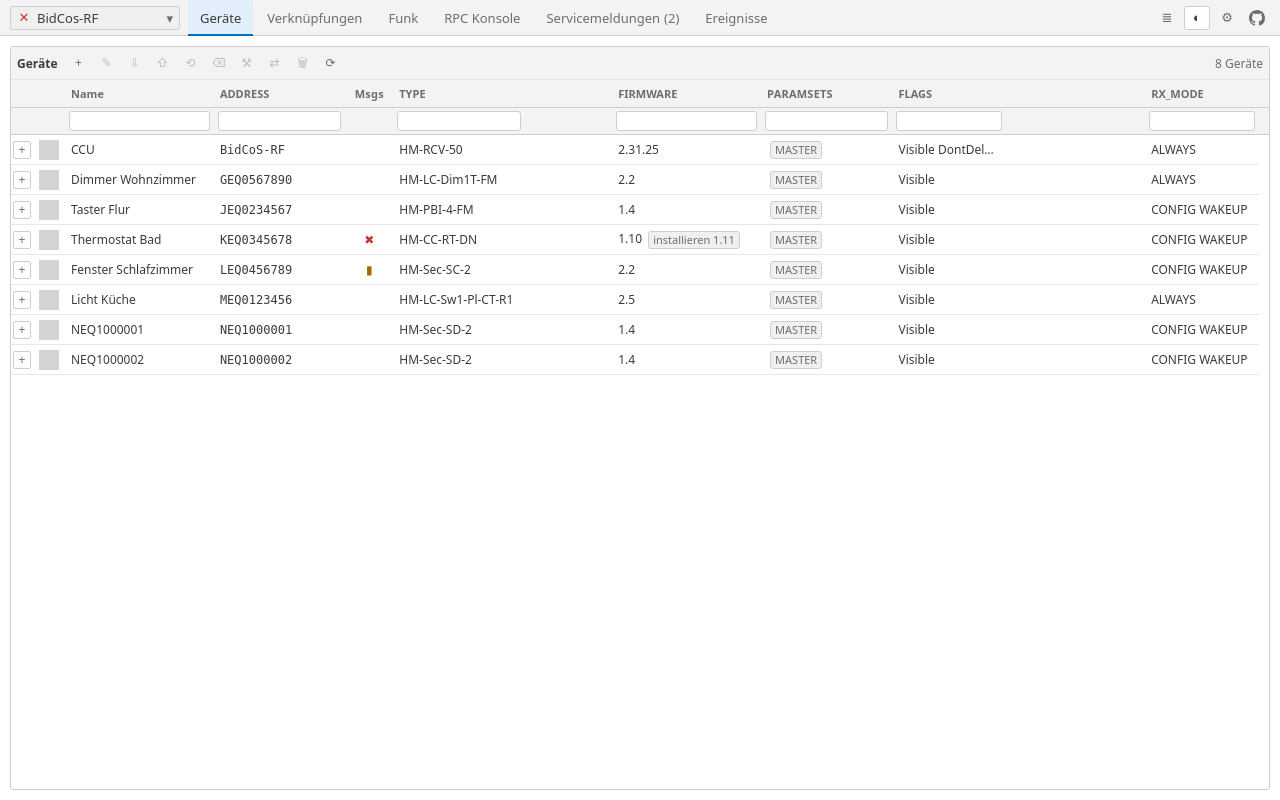
Test: the add-device dialog › starts the BidCos install mode with the mode and the temporary key (#20)
Click the button with test id "devices-add" at point(78, 63), box [66,50,92,76]
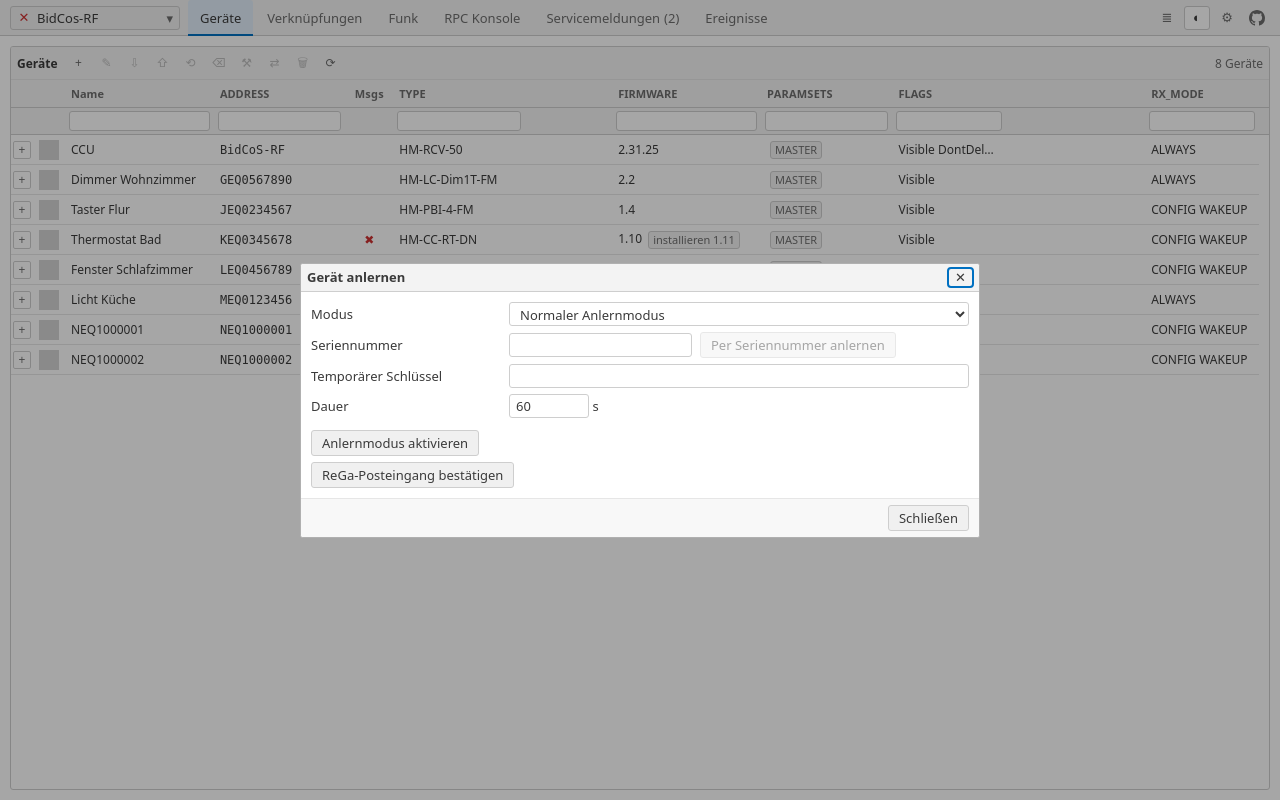
Select "Default-Parameter in Paramset MASTER schreiben, bestehende Verknüpfungen löschen" in the dropdown with test id "add-device-mode" at point(739, 314), box [509,302,969,326]
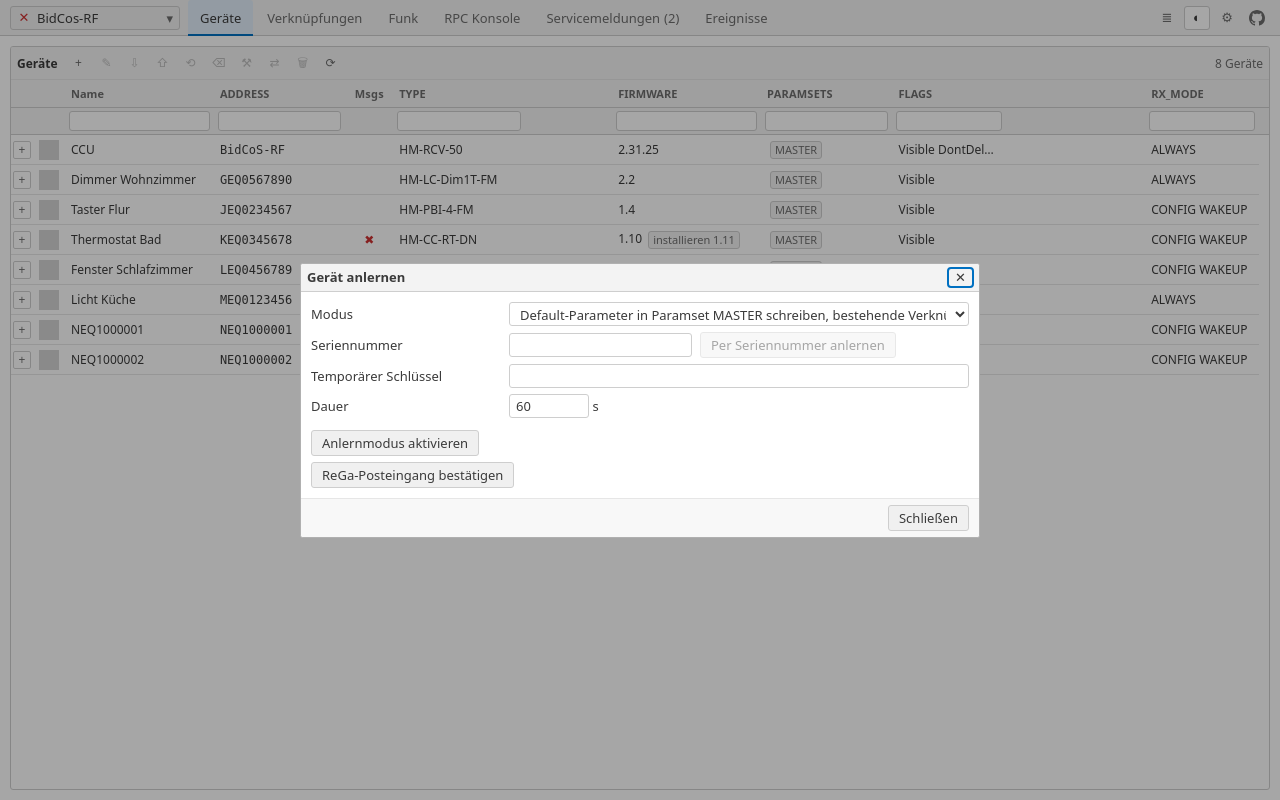
Type "SECRET" into the field with test id "add-device-temp-key" at point(739, 376), box [509,364,969,388]
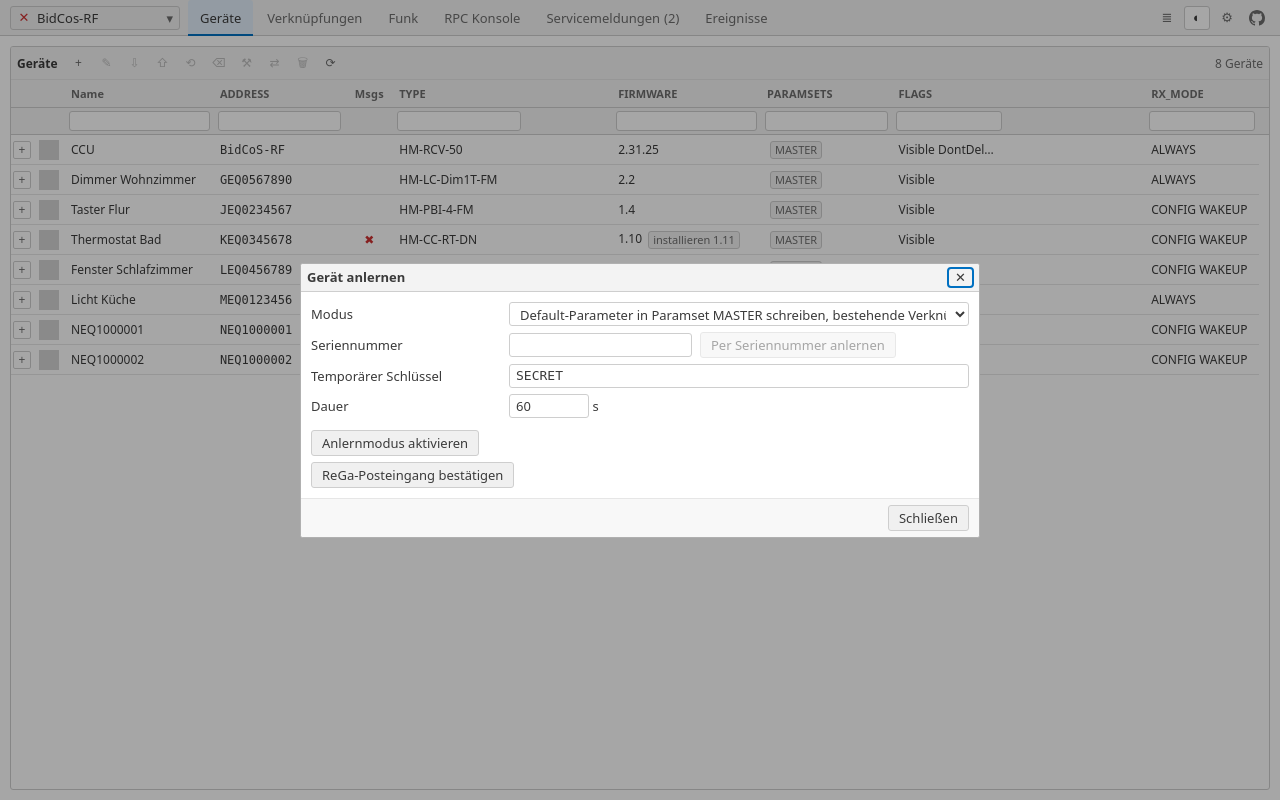
Click the button with test id "add-device-start" at point(395, 442), box [311,430,479,456]
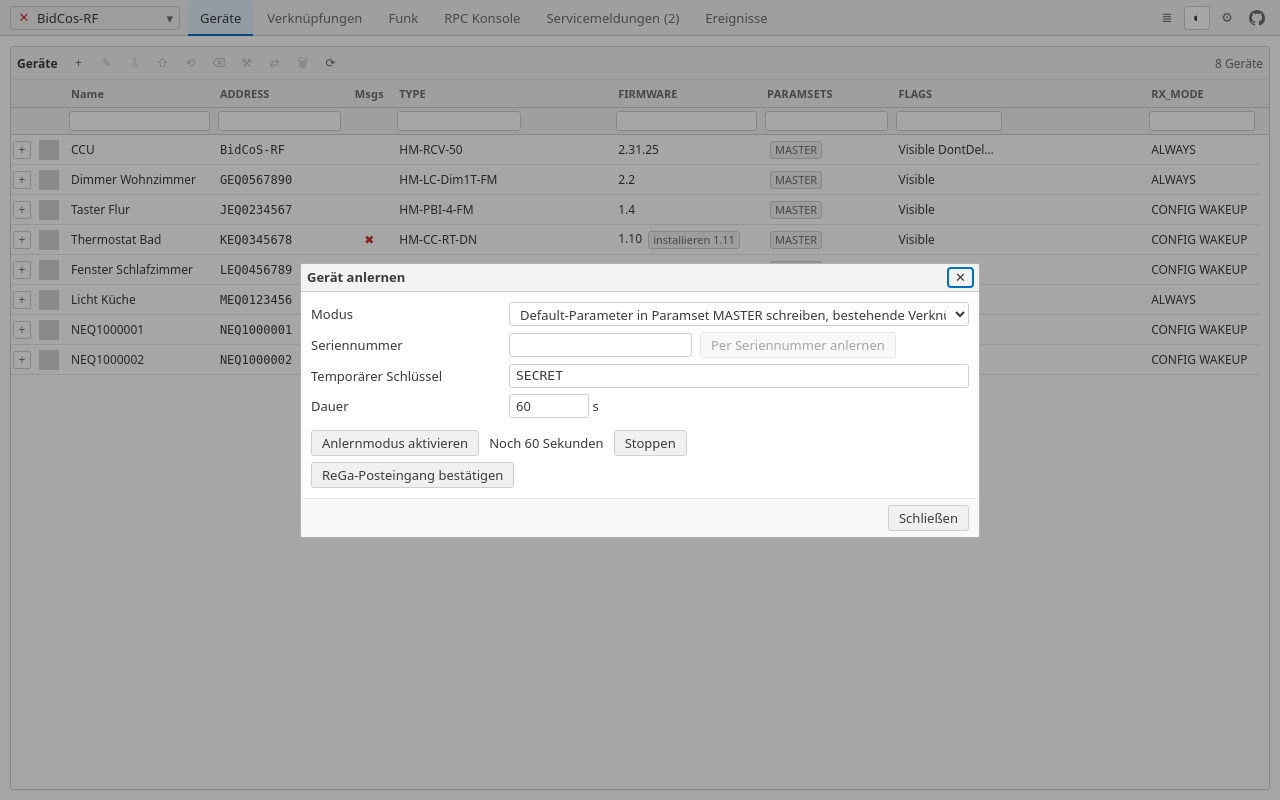
Check: the text "Noch 60 Sekunden" is shown, box [489,434,604,452]
